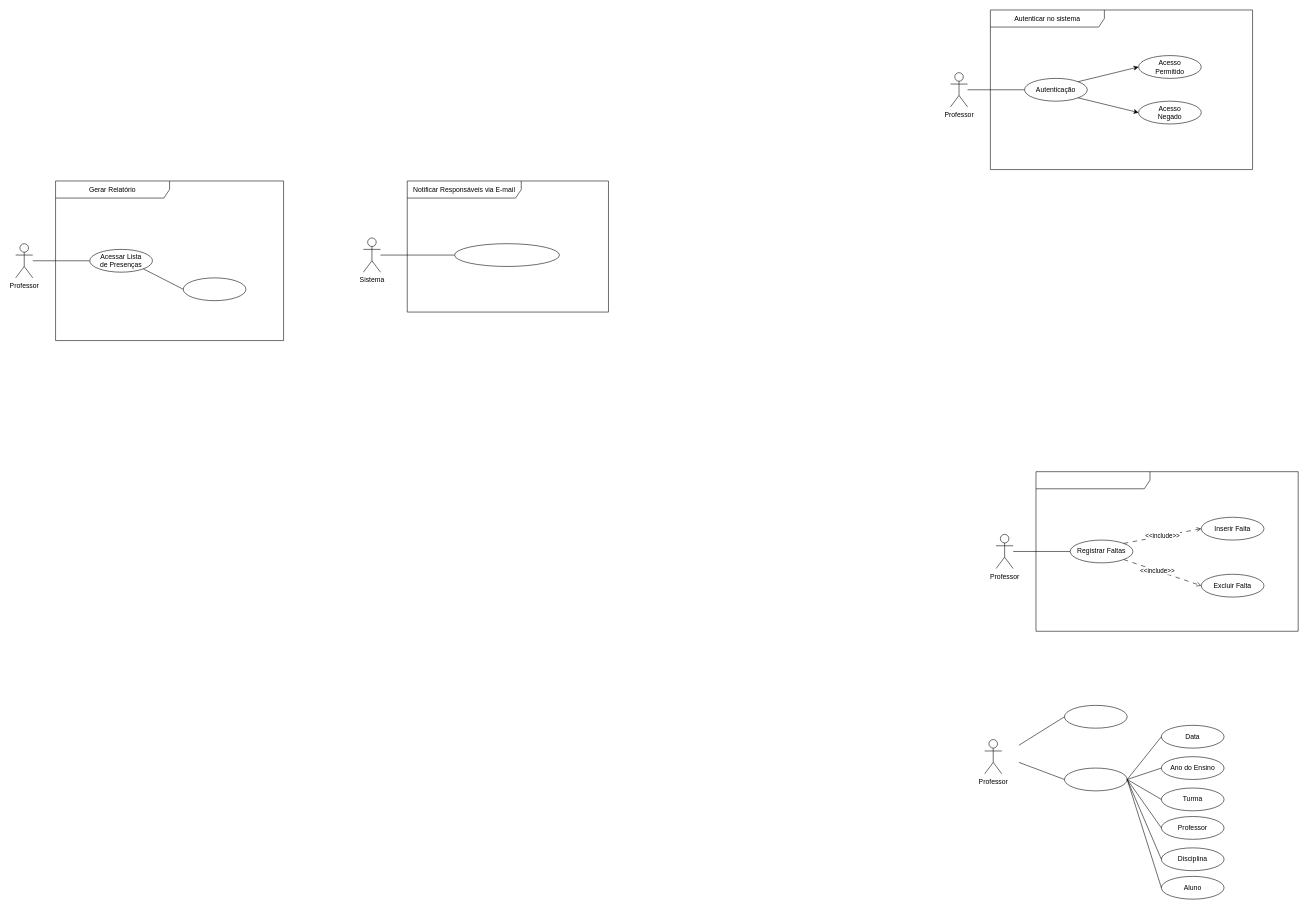
Image size: 1308x909. Some labels were removed from this diagram. Here are the shapes that lost their labels. From the top down, the centre of each, then its label:
At (x=506, y=254): "Notificar Responsáveis pelo e-mail".
At (x=214, y=289): "Gerar Relatório de Presença".
At (x=1166, y=551): "Registrar falta do aluno".
At (x=1095, y=716): "Visualizar lista de presença".
At (x=1095, y=779): "Gerar Relatório de faltas".
